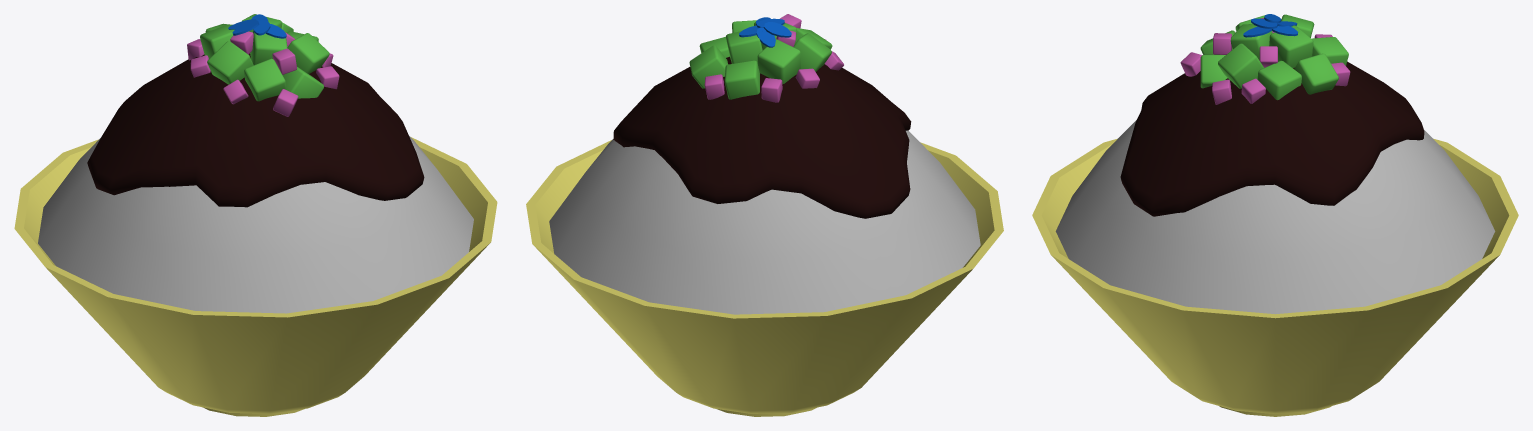
File: Redbean Bingsu.fbx
The picture shows the model from 3 angles, left to right: view 1: azimuth 30°, elevation 25°; view 2: azimuth 150°, elevation 25°; view 3: azimuth 270°, elevation 25°; orthographic projection.
Parts seen in each view (by area): view 1: Redbean Bingsu; view 2: Redbean Bingsu; view 3: Redbean Bingsu.
Part boxes in pixels (bbox=[...]): Redbean Bingsu: bbox=[14, 14, 497, 416]; Redbean Bingsu: bbox=[526, 14, 1003, 416]; Redbean Bingsu: bbox=[1032, 14, 1518, 416].
Bounding box in the file's own units: 36.9 × 36.9 × 30.49.
